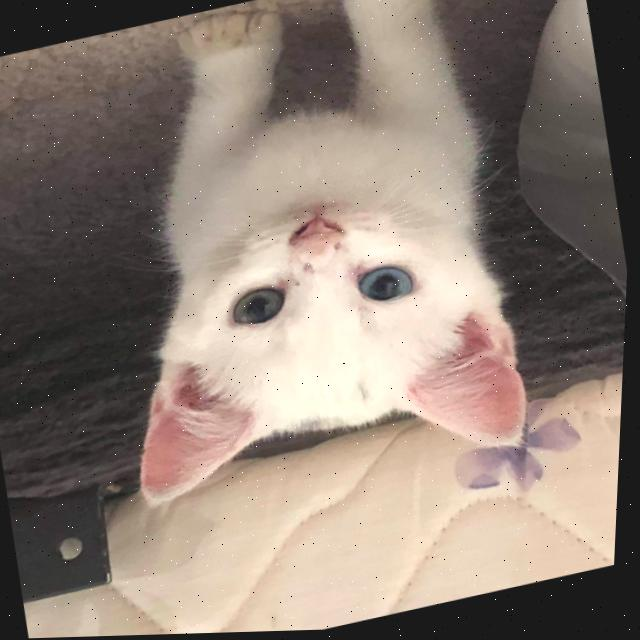Khao Manee: (48, 0, 561, 534)
